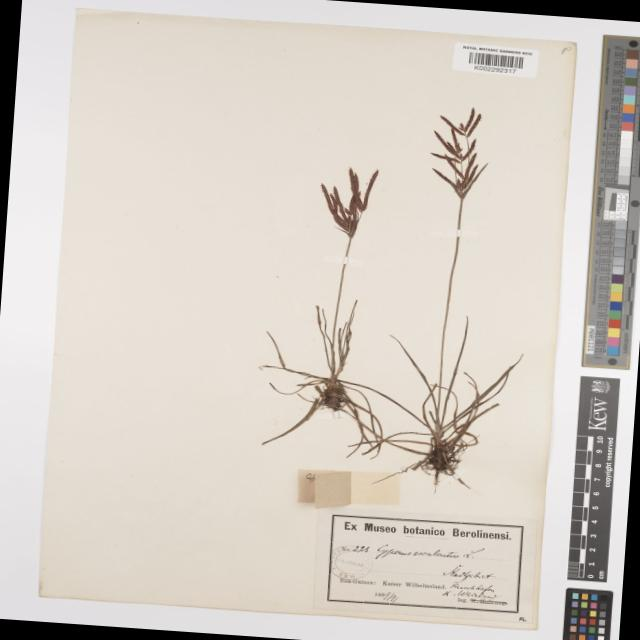cyperus: (416, 95, 510, 209), (306, 160, 394, 241)
